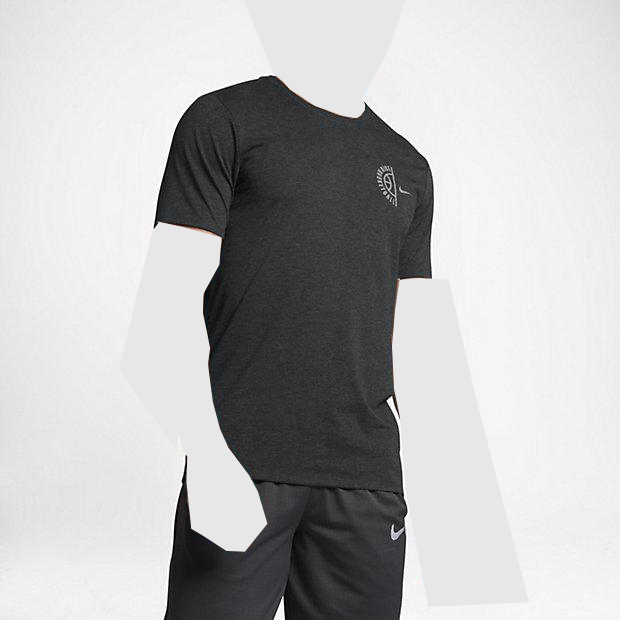teeshirt: (150, 66, 446, 498)
